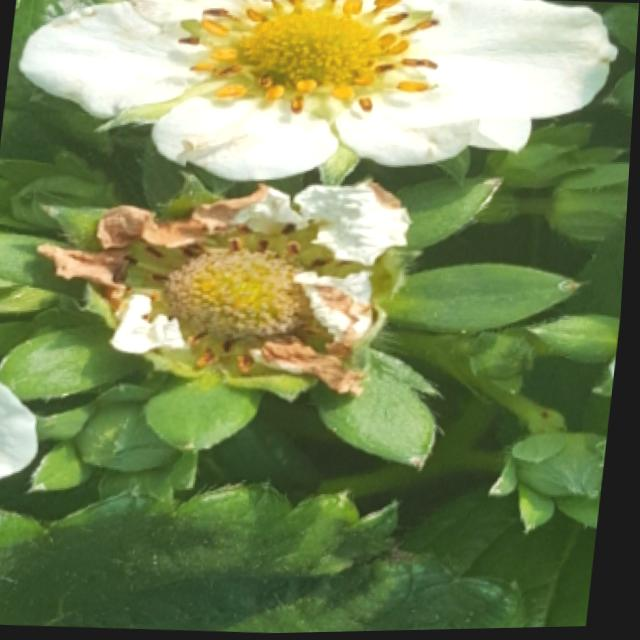Blossom Blight: (120, 216, 358, 378), (176, 0, 447, 120)
